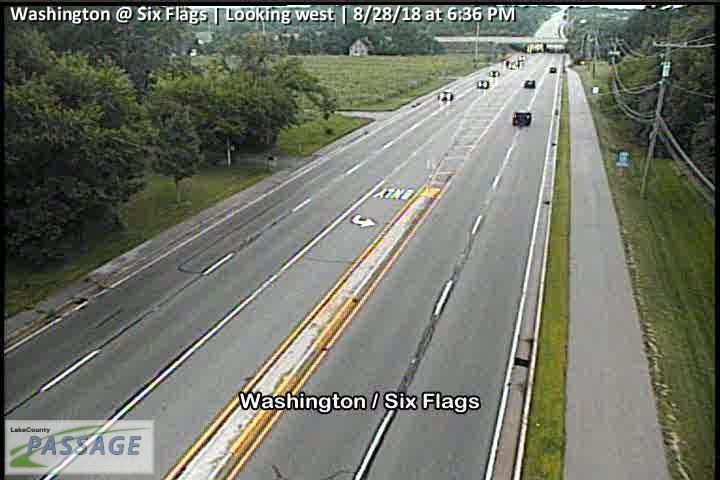Sedan: (511, 111, 533, 125), (438, 91, 454, 102), (475, 79, 490, 89), (524, 79, 536, 89), (488, 70, 500, 78), (548, 65, 557, 74)
